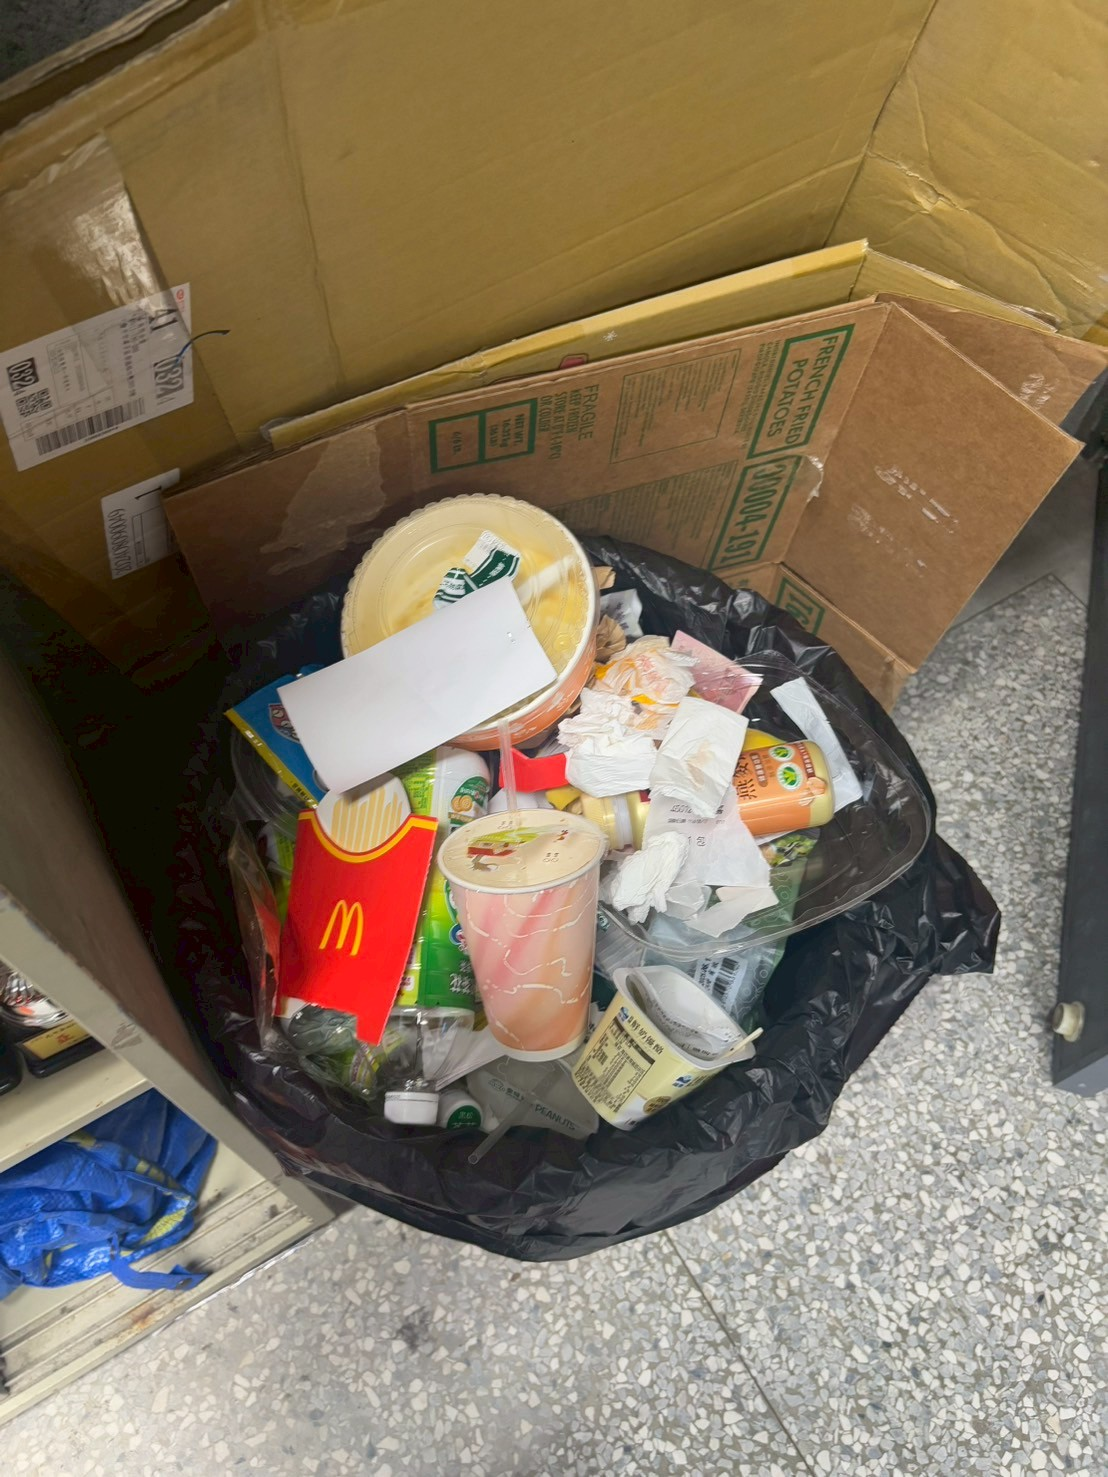overflow_bin: (148, 475, 1014, 1265)
